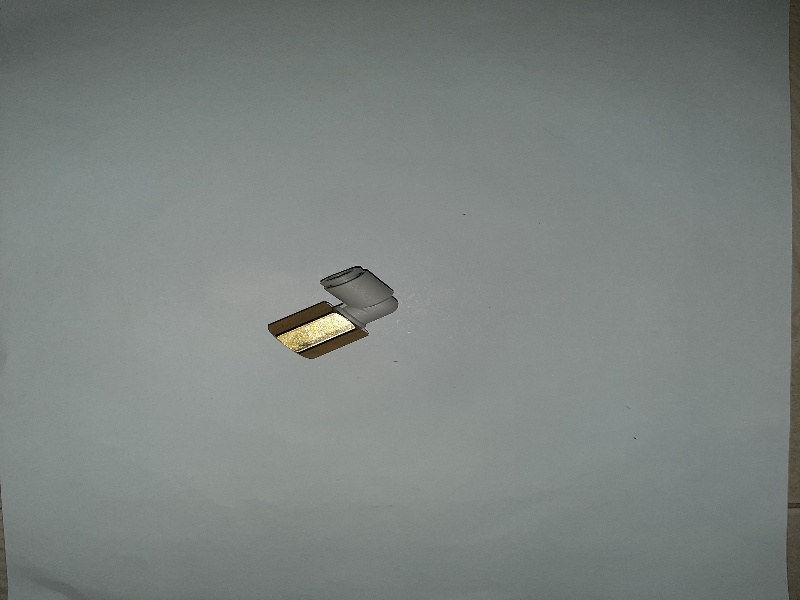Connector: (264, 257, 409, 363)
